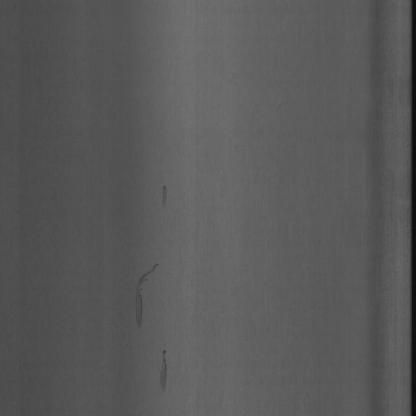water_spot: (124, 175, 182, 395)
